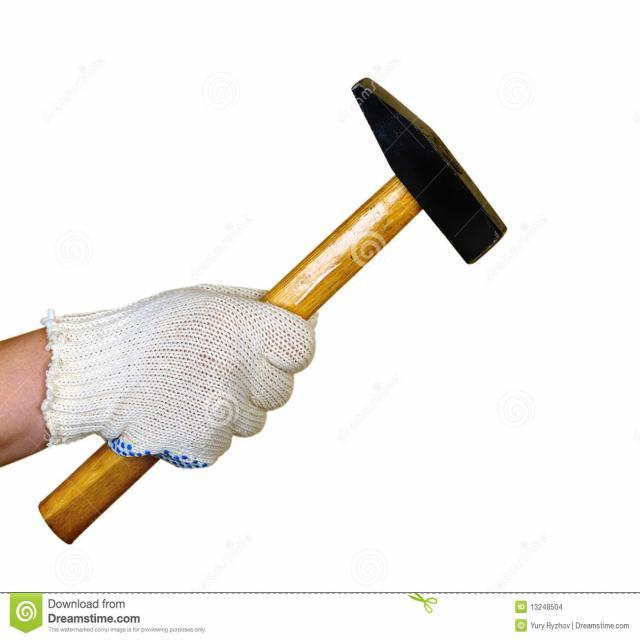hammer: (34, 75, 512, 548)
